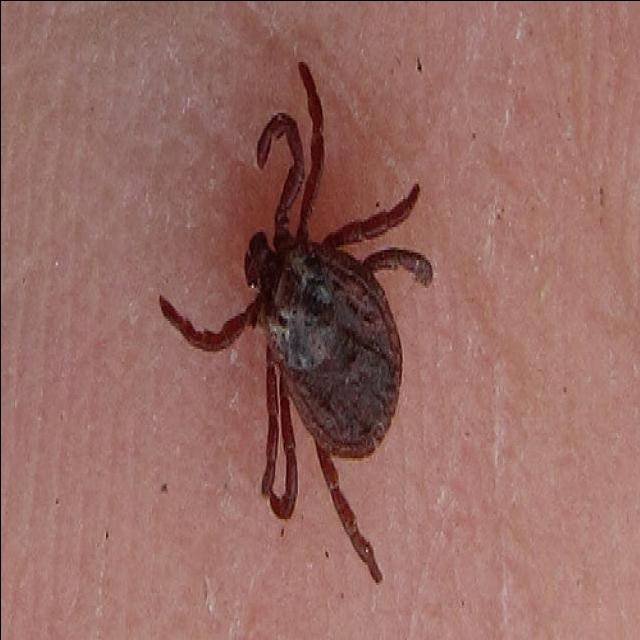Dermacentor Reticulatus-F: (159, 62, 433, 584)
